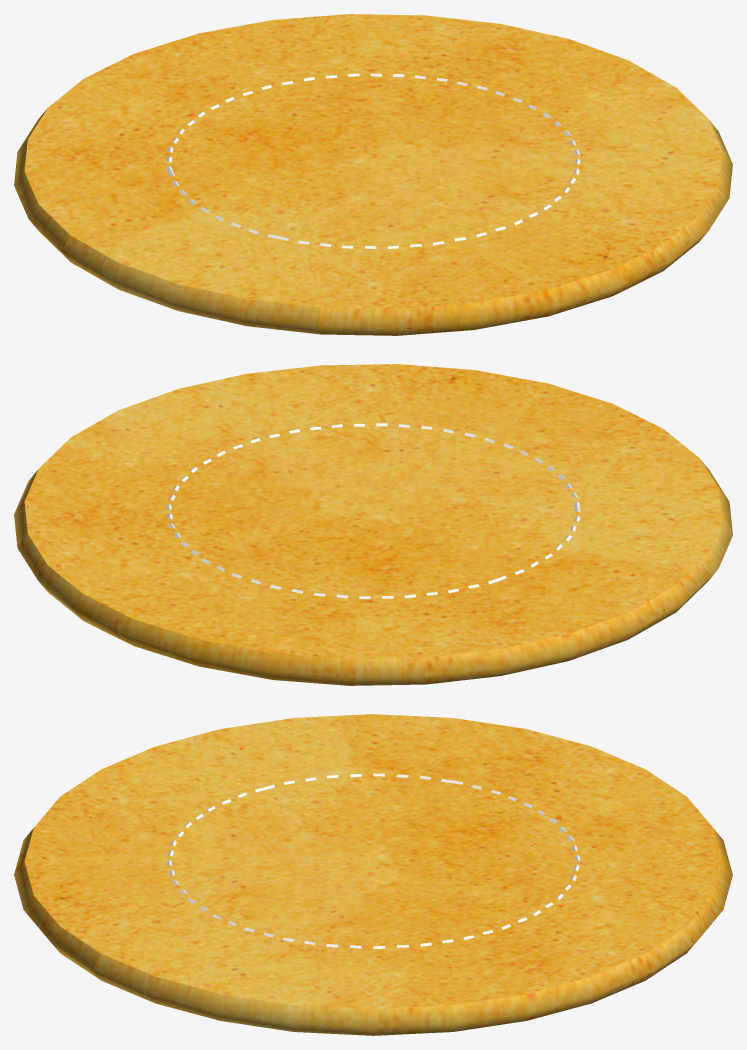
File: KeoTron.fbx
3 views of the same model, one above another, from view 1: azimuth 30°, elevation 25°; view 2: azimuth 150°, elevation 25°; view 3: azimuth 270°, elevation 25° (orthographic).
Parts seen in each view (by area): view 1: KEOVO, netduttron; view 2: KEOVO, netduttron; view 3: KEOVO, netduttron.
Boxes of the visible parts, x1=… form: KEOVO: x1=14, y1=14, x2=732, y2=335; netduttron: x1=166, y1=73, x2=580, y2=248; KEOVO: x1=14, y1=364, x2=732, y2=685; netduttron: x1=166, y1=423, x2=580, y2=598; KEOVO: x1=14, y1=714, x2=732, y2=1035; netduttron: x1=166, y1=773, x2=580, y2=948.
Bounding box in the file's own units: 140 × 6.15 × 140.
2 materials, 1 textured.
